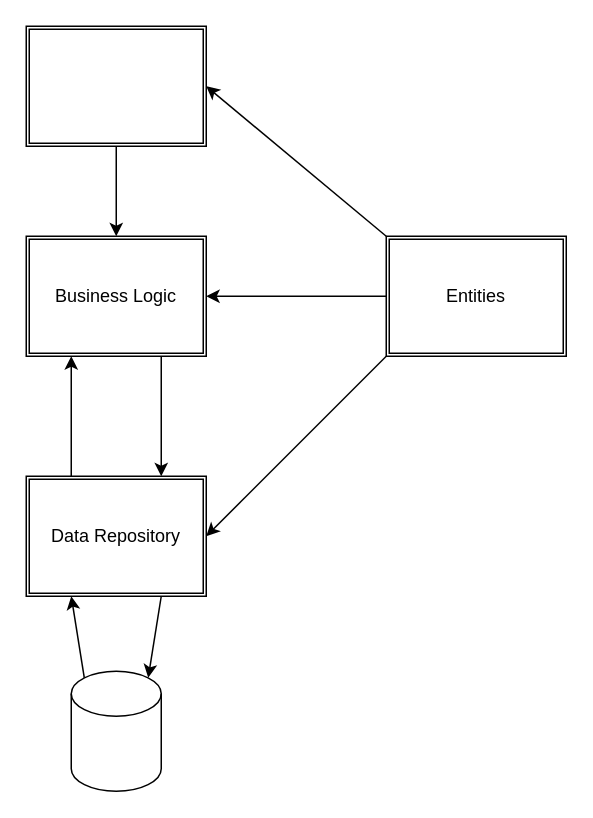
Some shapes in this 593 by 818 pixel diagram are drawn without their labels. Each missing label, with the box of its shape:
NHL Database: (70, 670, 161, 791)
WebApi: (25, 25, 206, 146)
